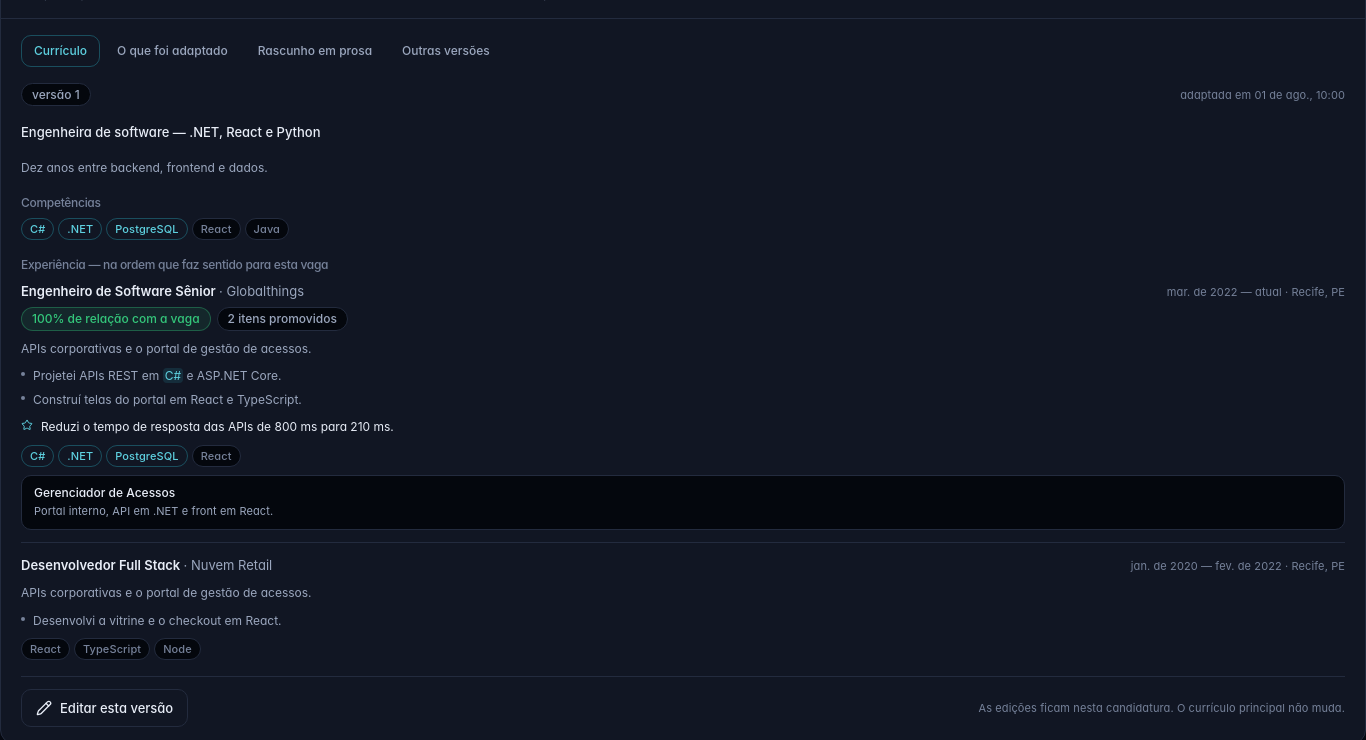
it: ApplicationResumePanel editing › saves the edits against this application only
The image size is (1366, 740).
(page scrolled)
Expected: the text "versão 1" is shown, [21,83,91,106]
Click the button "Editar esta versão".
click(105, 708)  # box [21,689,188,727]
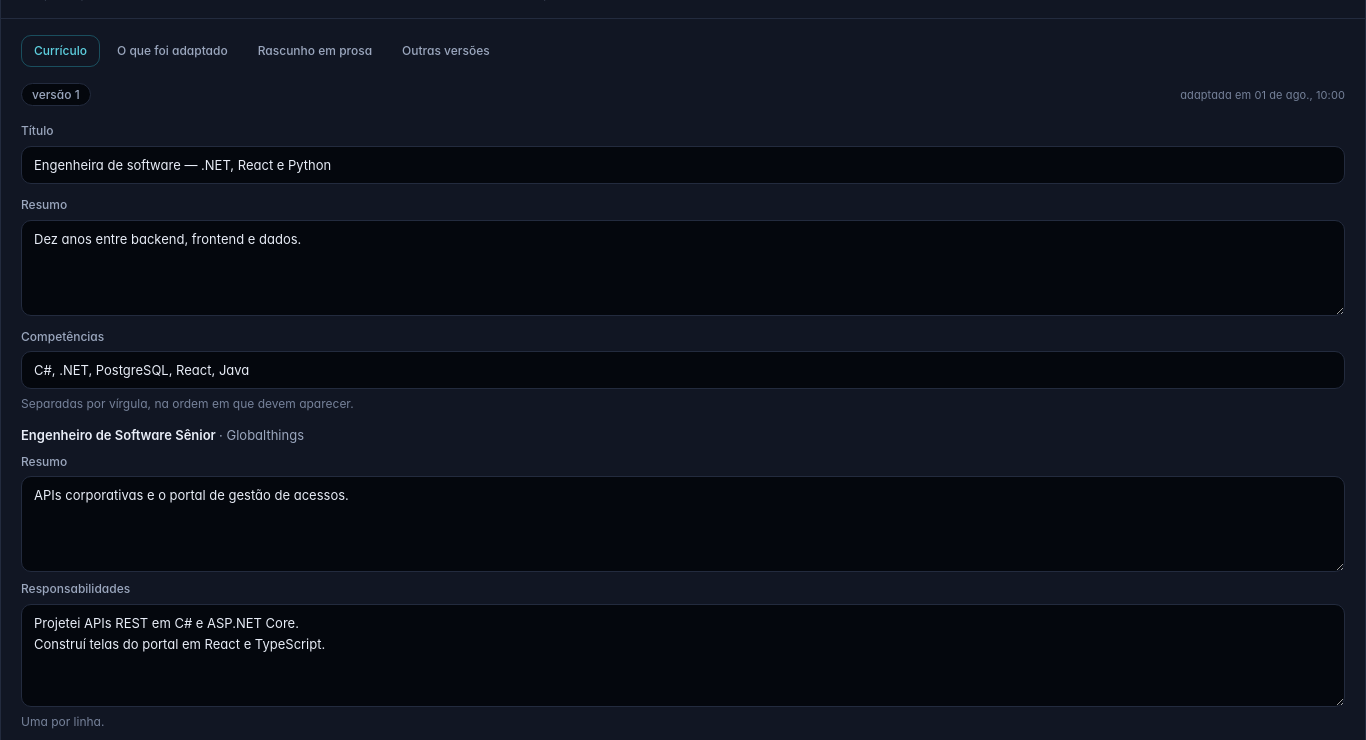
Replace the text in the field labelled "Título" with "Backend .NET" at (683, 165), box [21,146,1345,184]
(page scrolled)
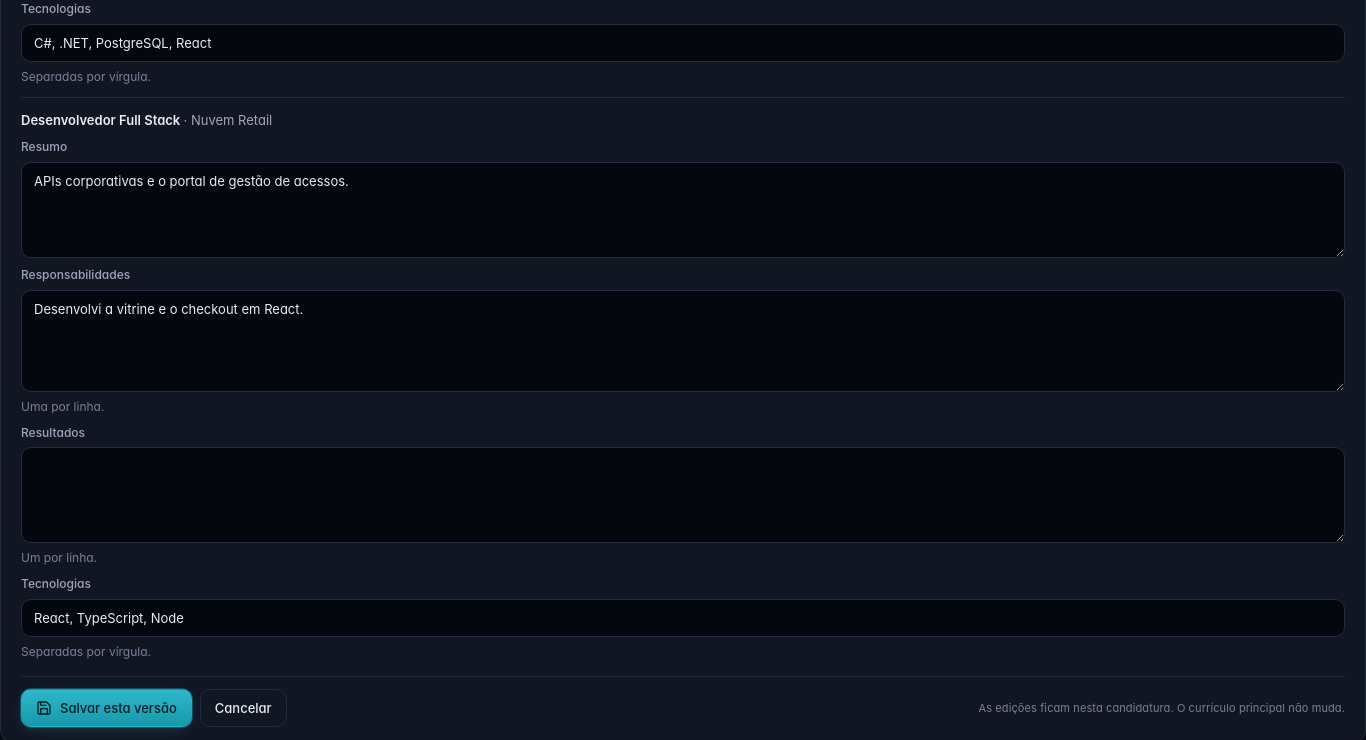
Click the button "Salvar esta versão".
click(106, 708)  # box [21,689,192,727]
(page scrolled)
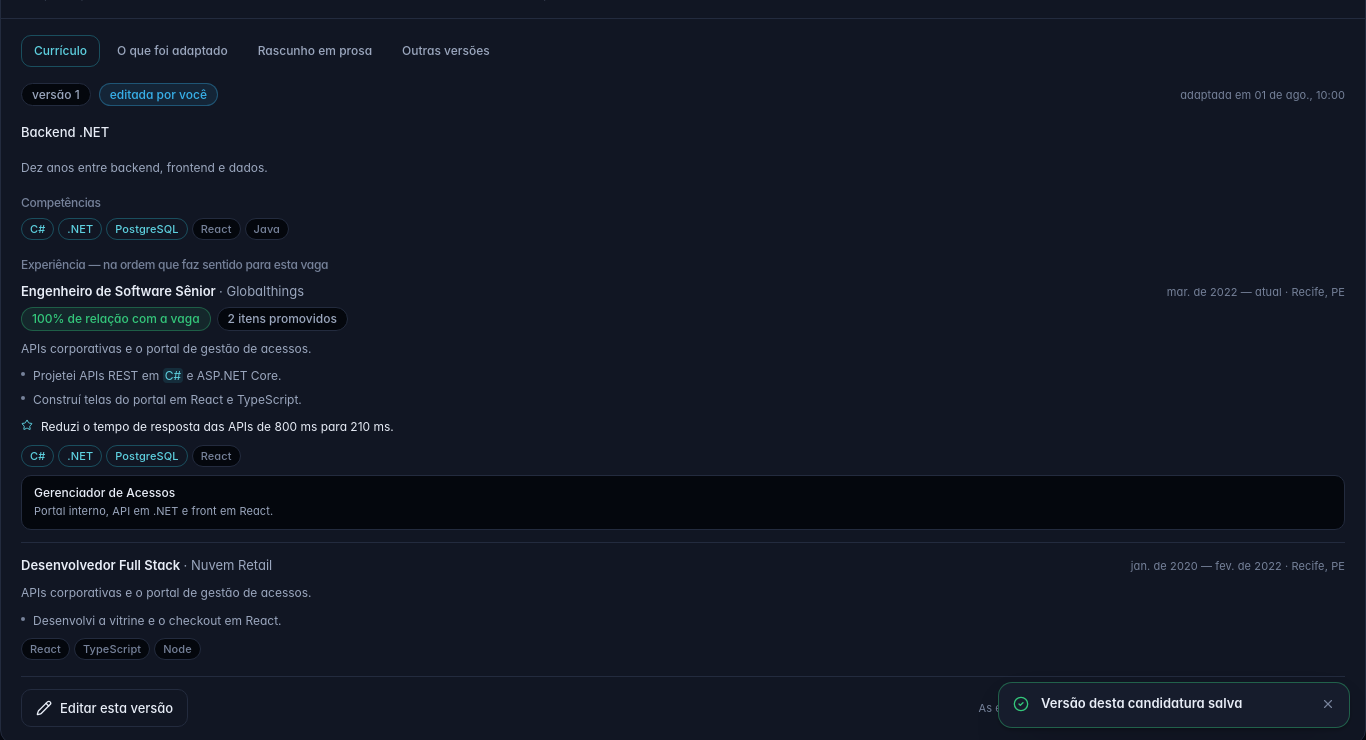
Expected: the text "Backend .NET" is shown, [21,124,109,140]
